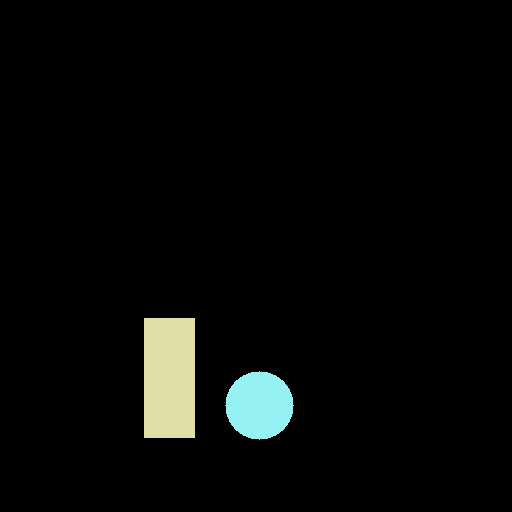circle: (225, 371, 293, 439)
rectangle: (144, 318, 194, 437)
